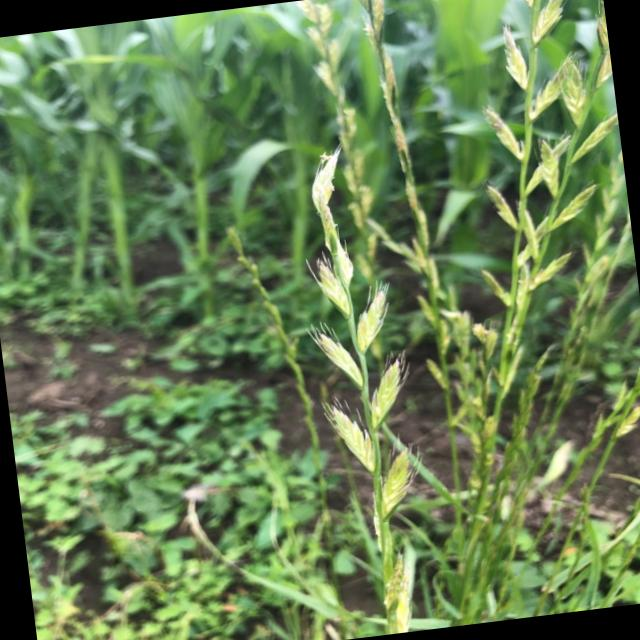Lolium: (429, 0, 640, 463), (300, 0, 492, 464), (281, 136, 447, 637)
